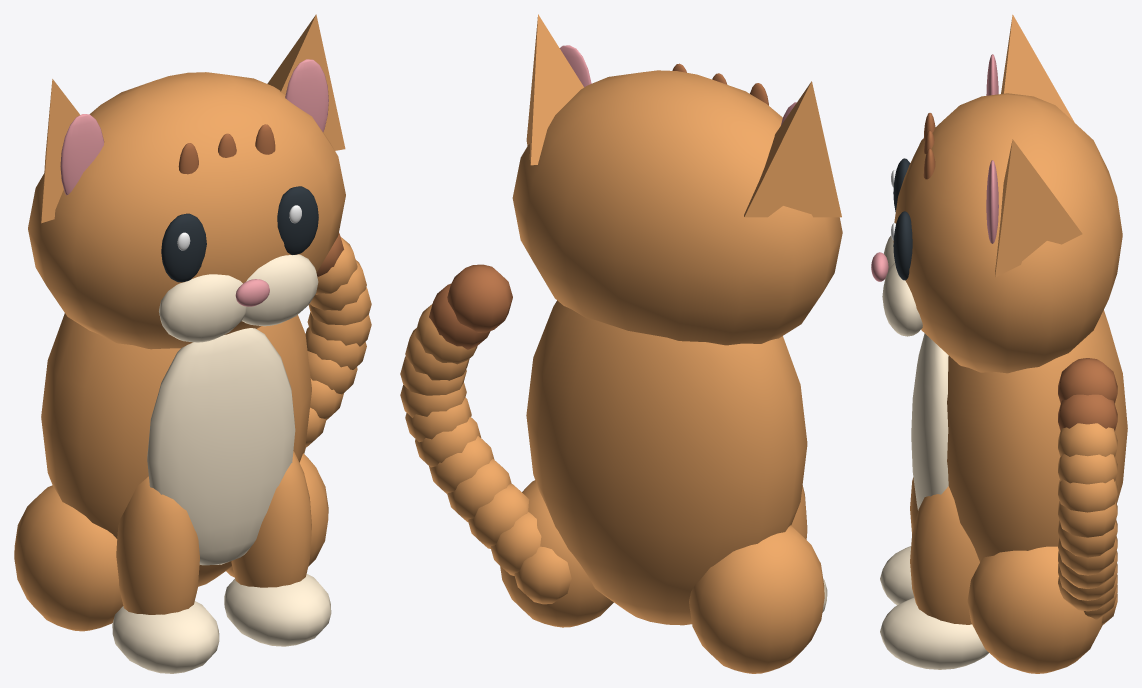
Rendered from cat.glb.
The picture shows the model from 3 angles, left to right: view 1: azimuth 30°, elevation 25°; view 2: azimuth 150°, elevation 25°; view 3: azimuth 270°, elevation 25°; orthographic projection. The views are drawn at different scales.
Visible parts, largest first — view 1: Head, Cream chest, Body, Haunch -1, Front leg -1, Front leg 1, Front paw 1, Front paw -1, Muzzle -1, Muzzle 1, Ear -1, Ear 1 (+13 smaller); view 2: Head, Body, Haunch -1, Ear -1, Haunch 1, Ear 1, Curled tail 12, Curled tail 0, Curled tail 2, Curled tail 3, Curled tail 1, Curled tail 4 (+7 smaller); view 3: Head, Body, Haunch 1, Front leg 1, Ear 1, Cream chest, Front paw 1, Ear -1, Curled tail 12, Muzzle 1, Curled tail 10, Curled tail 11 (+14 smaller).
Part boxes in pixels (x1=…): Head: x1=28, y1=72, x2=345, y2=349; Cream chest: x1=147, y1=328, x2=295, y2=565; Body: x1=41, y1=313, x2=311, y2=586; Haunch -1: x1=14, y1=485, x2=123, y2=631; Front leg -1: x1=116, y1=476, x2=199, y2=614; Front leg 1: x1=231, y1=451, x2=311, y2=587; Front paw 1: x1=224, y1=574, x2=331, y2=646; Front paw -1: x1=112, y1=601, x2=219, y2=673; Muzzle -1: x1=159, y1=274, x2=246, y2=342; Muzzle 1: x1=242, y1=254, x2=318, y2=326; Ear -1: x1=41, y1=79, x2=79, y2=223; Ear 1: x1=267, y1=14, x2=345, y2=150; Head: x1=512, y1=70, x2=842, y2=345; Body: x1=526, y1=300, x2=807, y2=625; Haunch -1: x1=689, y1=525, x2=824, y2=673; Ear -1: x1=744, y1=81, x2=841, y2=217; Haunch 1: x1=500, y1=480, x2=613, y2=627; Ear 1: x1=526, y1=14, x2=583, y2=165; Curled tail 12: x1=447, y1=264, x2=512, y2=332; Curled tail 0: x1=514, y1=546, x2=571, y2=604; Curled tail 2: x1=468, y1=484, x2=529, y2=548; Curled tail 3: x1=447, y1=459, x2=511, y2=521; Curled tail 1: x1=490, y1=512, x2=541, y2=575; Curled tail 4: x1=429, y1=436, x2=494, y2=493; Head: x1=893, y1=93, x2=1122, y2=373; Body: x1=947, y1=310, x2=1127, y2=562; Haunch 1: x1=967, y1=546, x2=1102, y2=673; Front leg 1: x1=910, y1=486, x2=979, y2=624; Ear 1: x1=995, y1=139, x2=1082, y2=277; Cream chest: x1=911, y1=333, x2=948, y2=510; Front paw 1: x1=880, y1=597, x2=988, y2=669; Ear -1: x1=1001, y1=14, x2=1074, y2=122; Curled tail 12: x1=1058, y1=358, x2=1117, y2=403; Muzzle 1: x1=882, y1=263, x2=922, y2=336; Curled tail 10: x1=1058, y1=423, x2=1117, y2=457; Curled tail 11: x1=1058, y1=394, x2=1117, y2=431.
Size of the model in its own units: 1.67 by 2.47 by 1.03.
